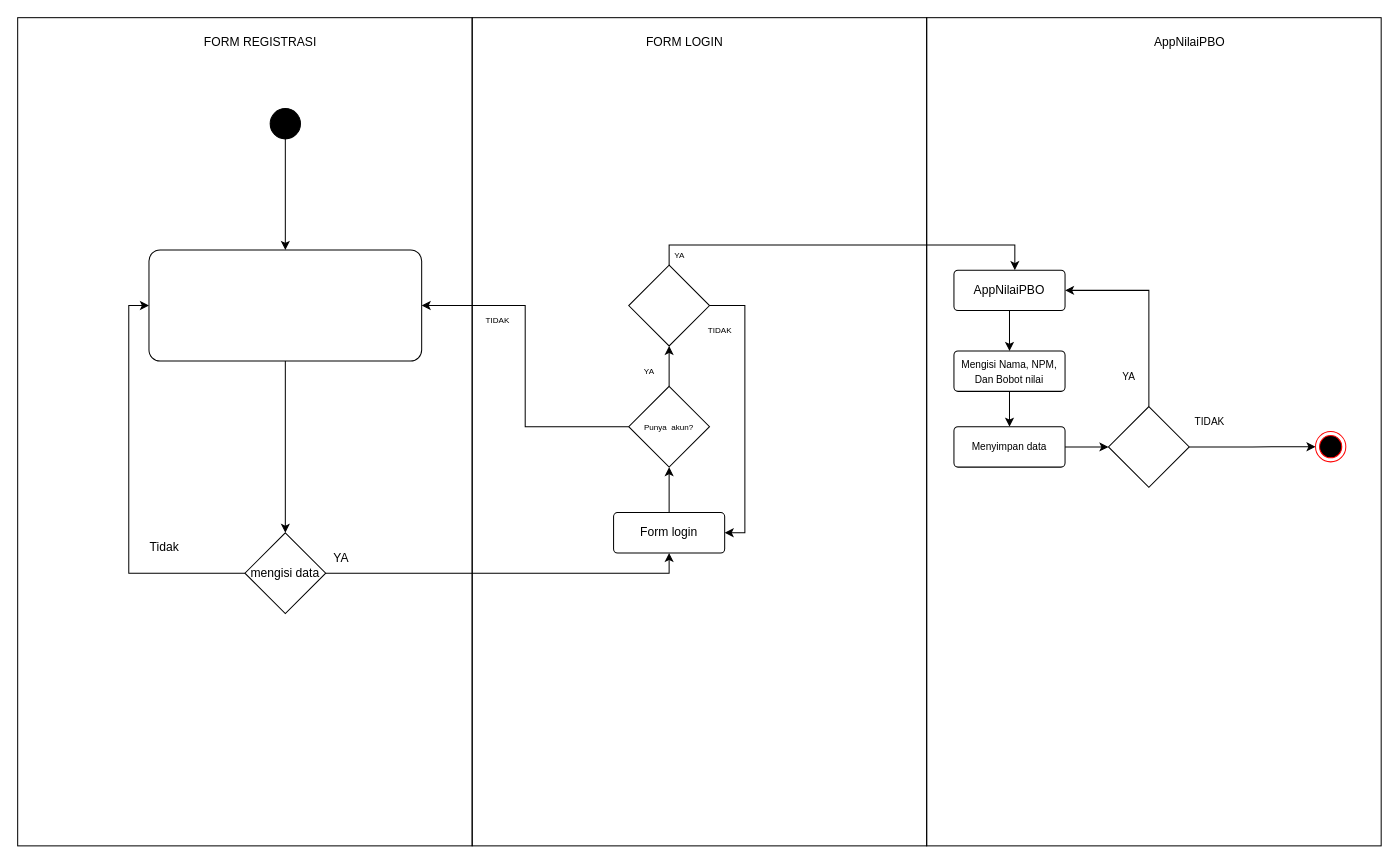
The diagram is 1399 pixels wide and 864 high, and some of its shapes have lost their labels. Each missing label, with the box of its shape:
mengisi data dengan benar?: (628, 264, 710, 346)
Mengisi Form (fullname, email, password, re-password, phone, gender, citizenship: (148, 249, 422, 361)
tambah data baru: (1107, 406, 1189, 487)
